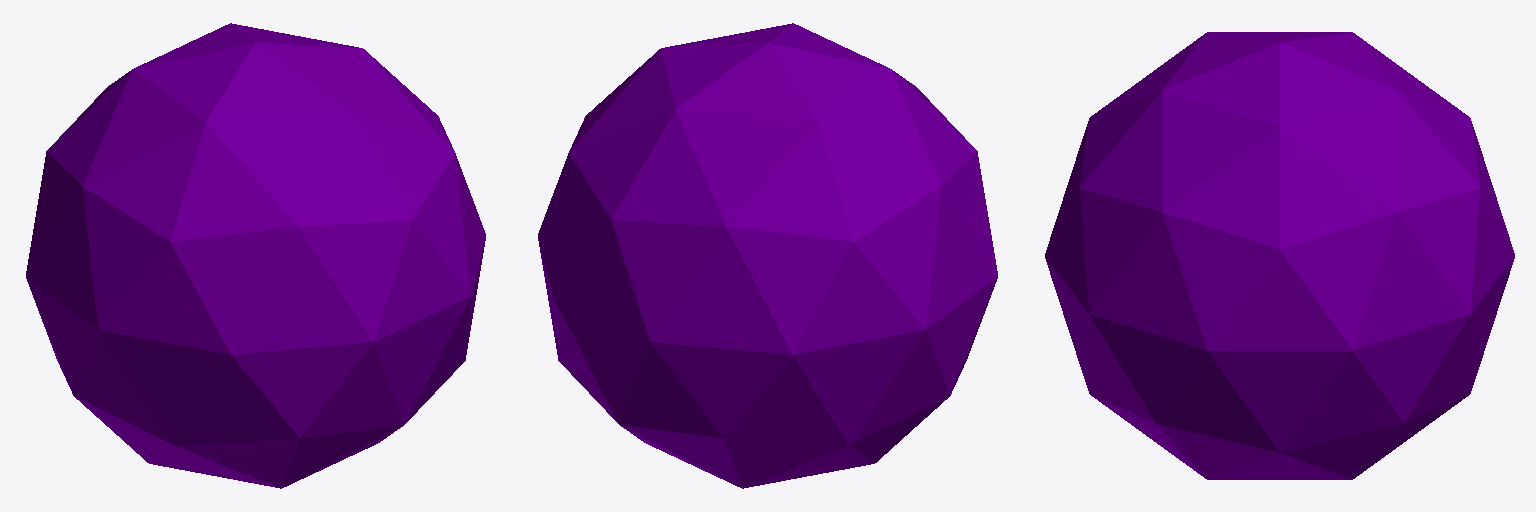
The model's file is amethyste.obj.
3 renders of one model, left to right at view 1: azimuth 30°, elevation 25°; view 2: azimuth 150°, elevation 25°; view 3: azimuth 270°, elevation 25°, orthographic.
Parts seen in each view (by area): view 1: Icosphere_Icosphere.002; view 2: Icosphere_Icosphere.002; view 3: Icosphere_Icosphere.002.
Part boxes in pixels (x1,y1,x2,y2): Icosphere_Icosphere.002: (26,23,485,488); Icosphere_Icosphere.002: (538,23,997,488); Icosphere_Icosphere.002: (1045,32,1514,479).
Bounding box in the file's own units: 1.9 × 2 × 2.